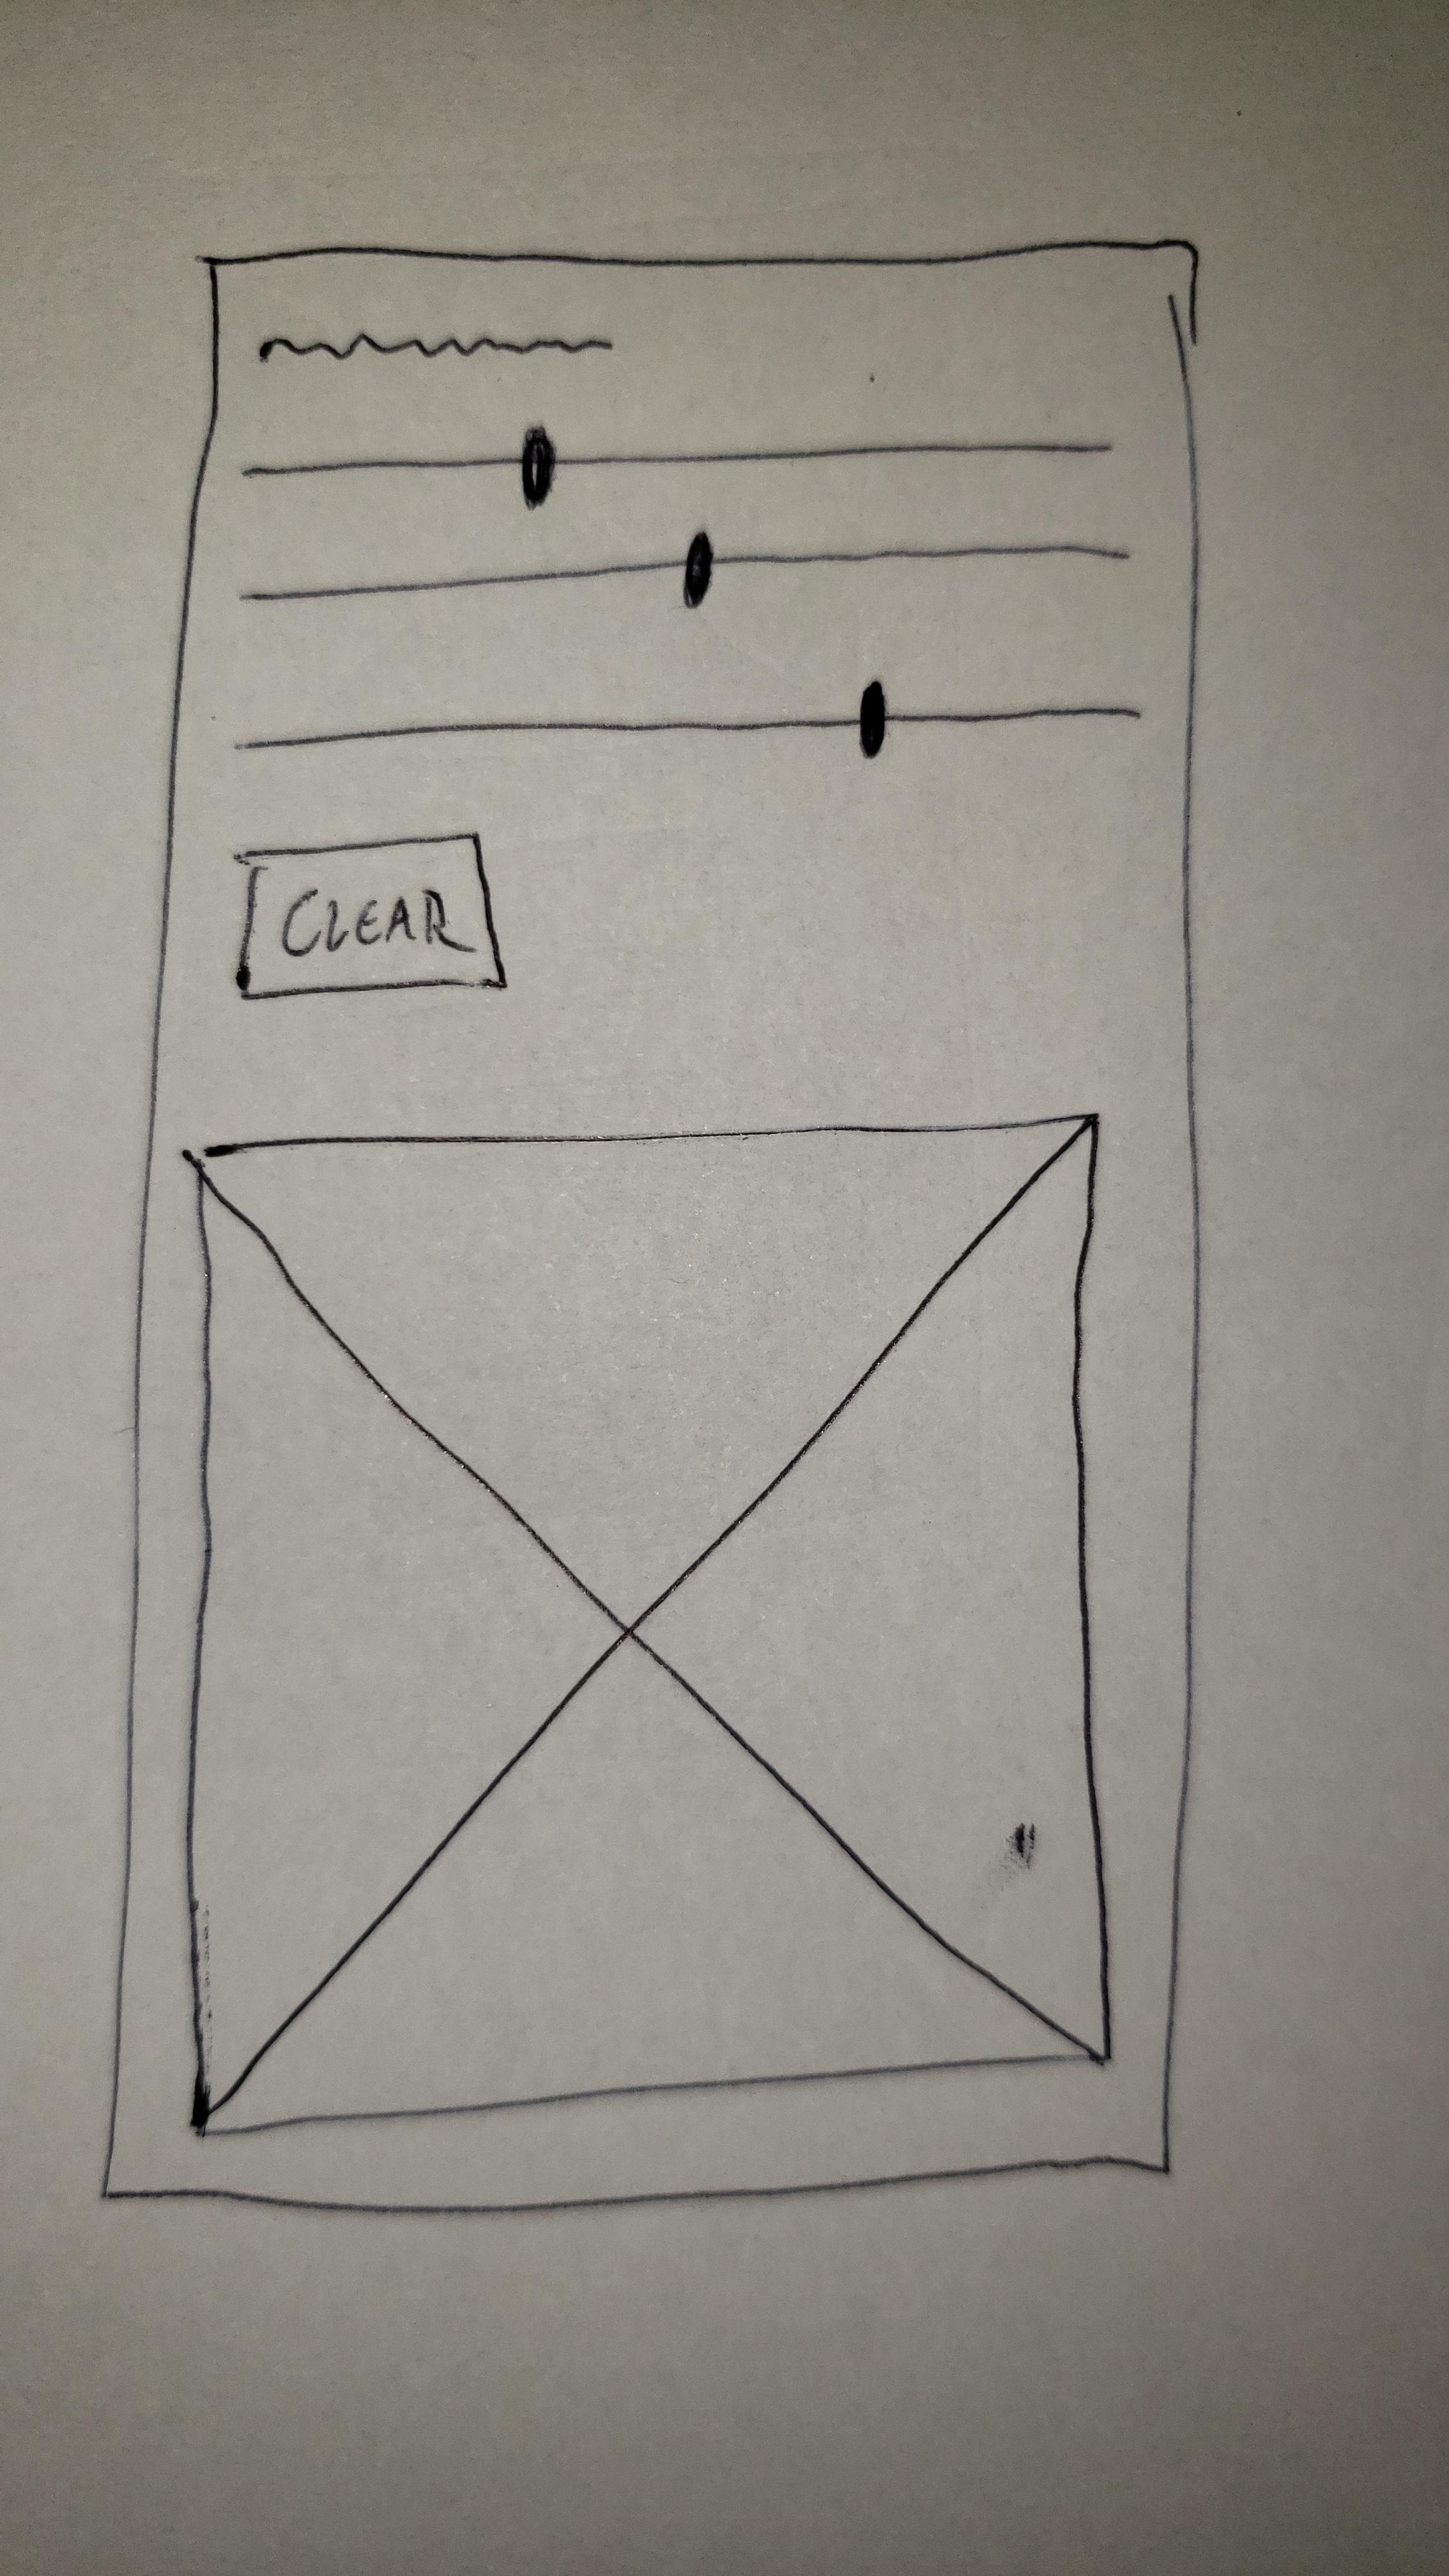Button: (232, 830, 510, 1007)
Image: (182, 1113, 1113, 2139)
Label: (251, 320, 619, 368)
Screen: (101, 239, 1201, 2201)
Slider: (244, 525, 1132, 621), (230, 676, 1148, 764), (237, 425, 1120, 508)
